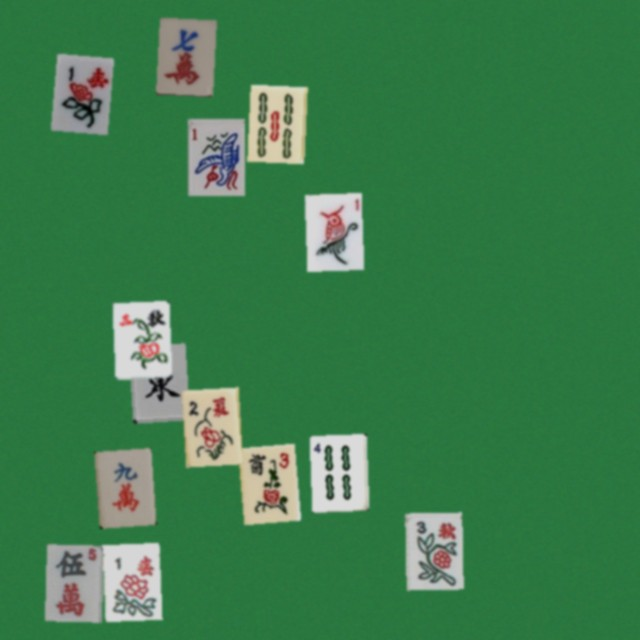tile: (304, 192, 361, 269), (94, 448, 151, 525), (50, 53, 107, 130), (247, 84, 304, 161), (128, 343, 185, 420), (44, 544, 101, 621), (112, 300, 169, 377), (405, 512, 462, 589), (237, 443, 294, 520), (309, 433, 366, 510), (181, 387, 238, 464), (187, 118, 244, 195), (156, 17, 213, 94), (102, 542, 159, 619)
